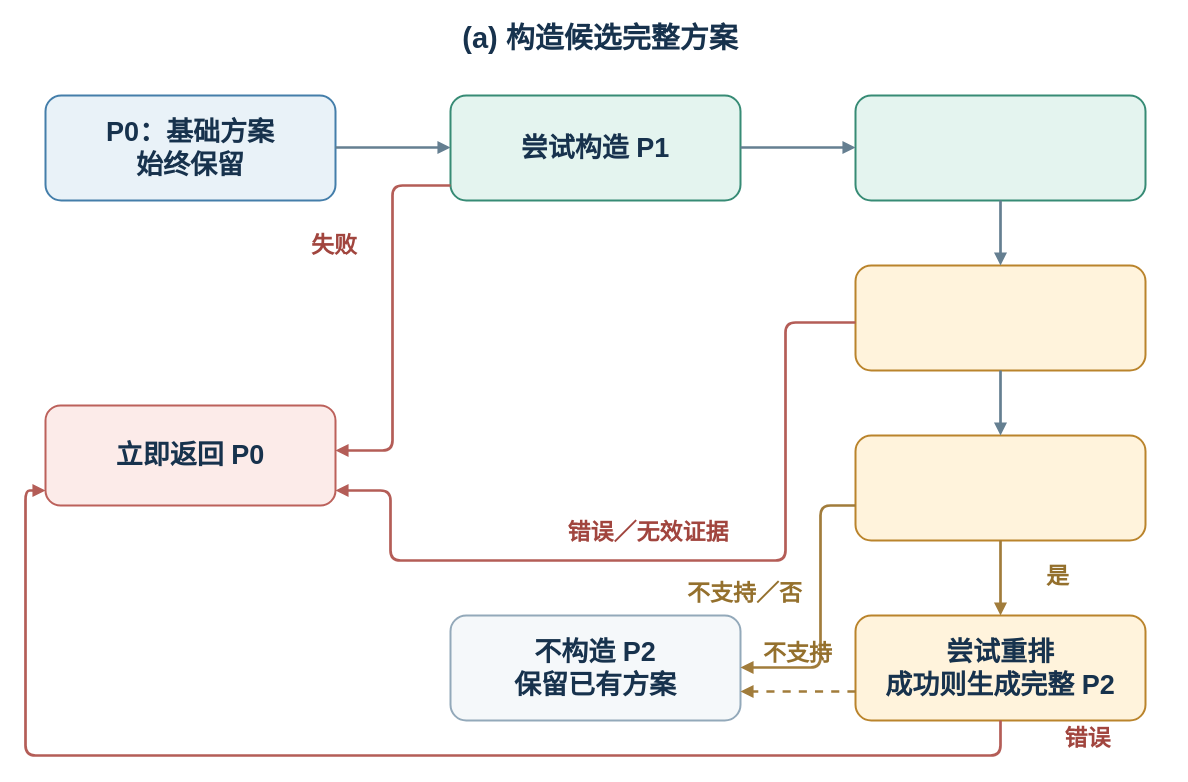
Some shapes in this 1188 by 782 pixel diagram are drawn without their labels. The shapes that lost their labels are listed below. From the top down, each one's box as (x1, y1, x2, y2) in pixels, then its label:
(854, 94, 1146, 201): 保留原始 P1 相同则不重复入列
(854, 264, 1146, 371): 以原始 P1 尝试局部调整
(854, 434, 1146, 541): 原始 COPY 字节数 有效且严格下降？
